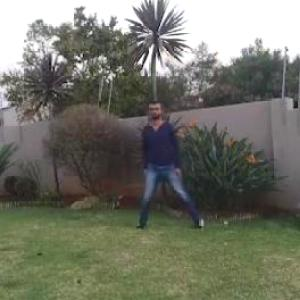follow: (142, 92, 182, 227)
